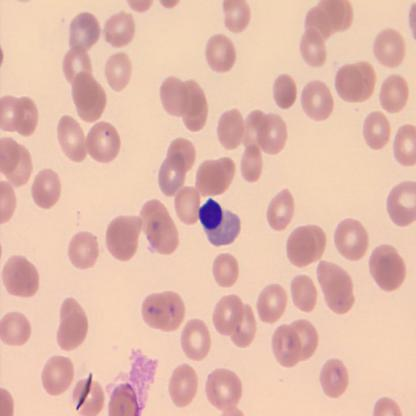NRC: (197, 196, 242, 249)
